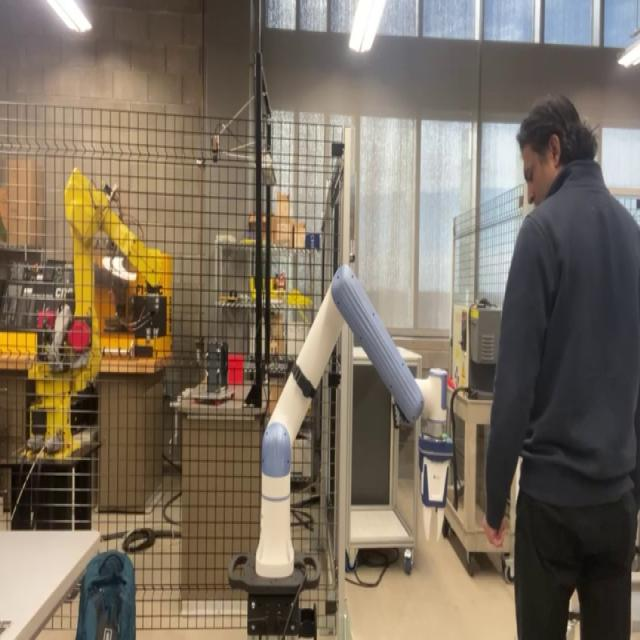robot: (250, 253, 460, 600)
